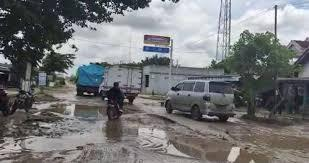Pothole: (0, 92, 309, 163)
